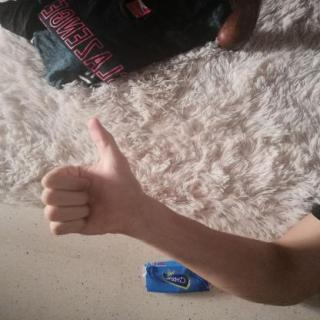ALIF: (33, 108, 148, 244)
